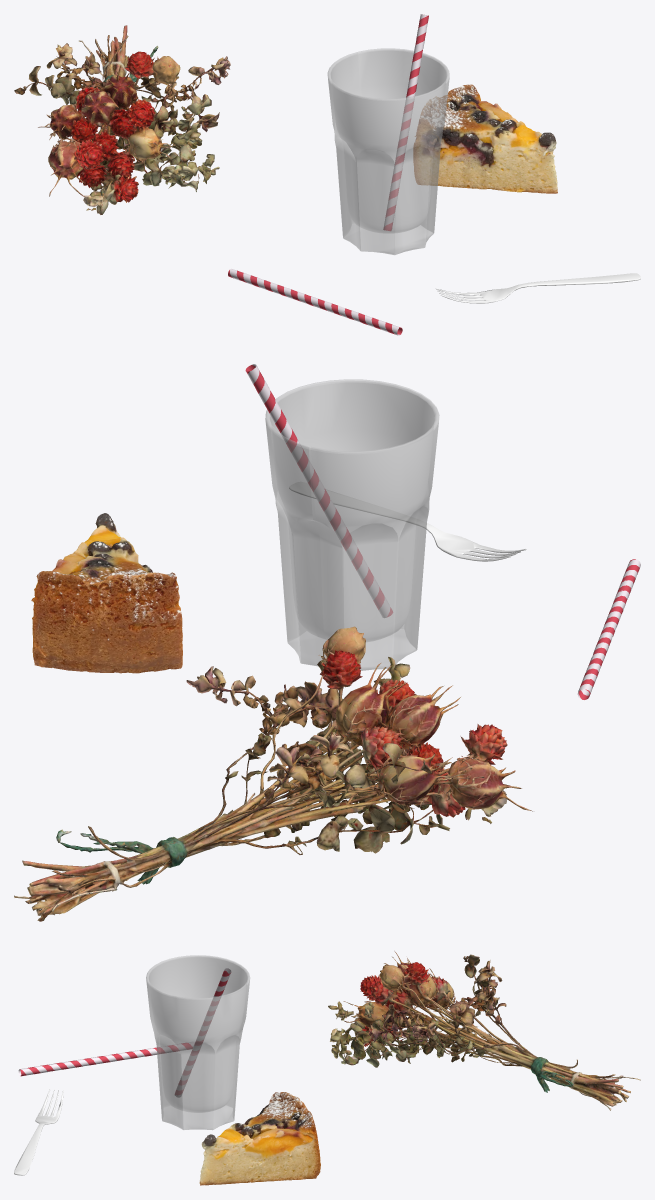
Rendered from glass-transformed.glb.
The picture shows the model from 3 angles, top to bottom: view 1: azimuth 30°, elevation 25°; view 2: azimuth 150°, elevation 25°; view 3: azimuth 270°, elevation 25°; orthographic projection. The views are drawn at different scales.
Parts seen in each view (by area): view 1: glass, flowers, glass_back, cake, glass_inner, straw, straw.001, fork; view 2: flowers, glass, glass_back, cake, glass_inner, straw, fork, straw.001; view 3: flowers, glass, glass_back, cake, glass_inner, straw.001, fork, straw.
Boxes of the visible parts, x1,y1,x2,y2 form: glass: (328, 48, 449, 254); flowers: (14, 25, 230, 214); glass_back: (328, 78, 449, 254); cake: (413, 84, 557, 193); glass_inner: (331, 51, 446, 100); straw: (383, 14, 428, 230); straw.001: (228, 268, 402, 335); fork: (436, 273, 640, 303); flowers: (14, 626, 532, 921); glass: (265, 379, 438, 670); glass_back: (265, 420, 438, 670); cake: (31, 513, 182, 673); glass_inner: (270, 383, 434, 454); straw: (245, 364, 392, 617); fork: (289, 482, 526, 561); straw.001: (577, 559, 640, 699); flowers: (328, 951, 640, 1110); glass: (146, 955, 249, 1129); glass_back: (146, 978, 249, 1129); cake: (199, 1092, 320, 1185); glass_inner: (149, 957, 247, 999); straw.001: (18, 1042, 194, 1076); fork: (14, 1089, 63, 1175); straw: (175, 968, 231, 1097).
Bounding box in the file's own units: 3.66 × 1.71 × 5.76.
6 materials, 2 textured.
